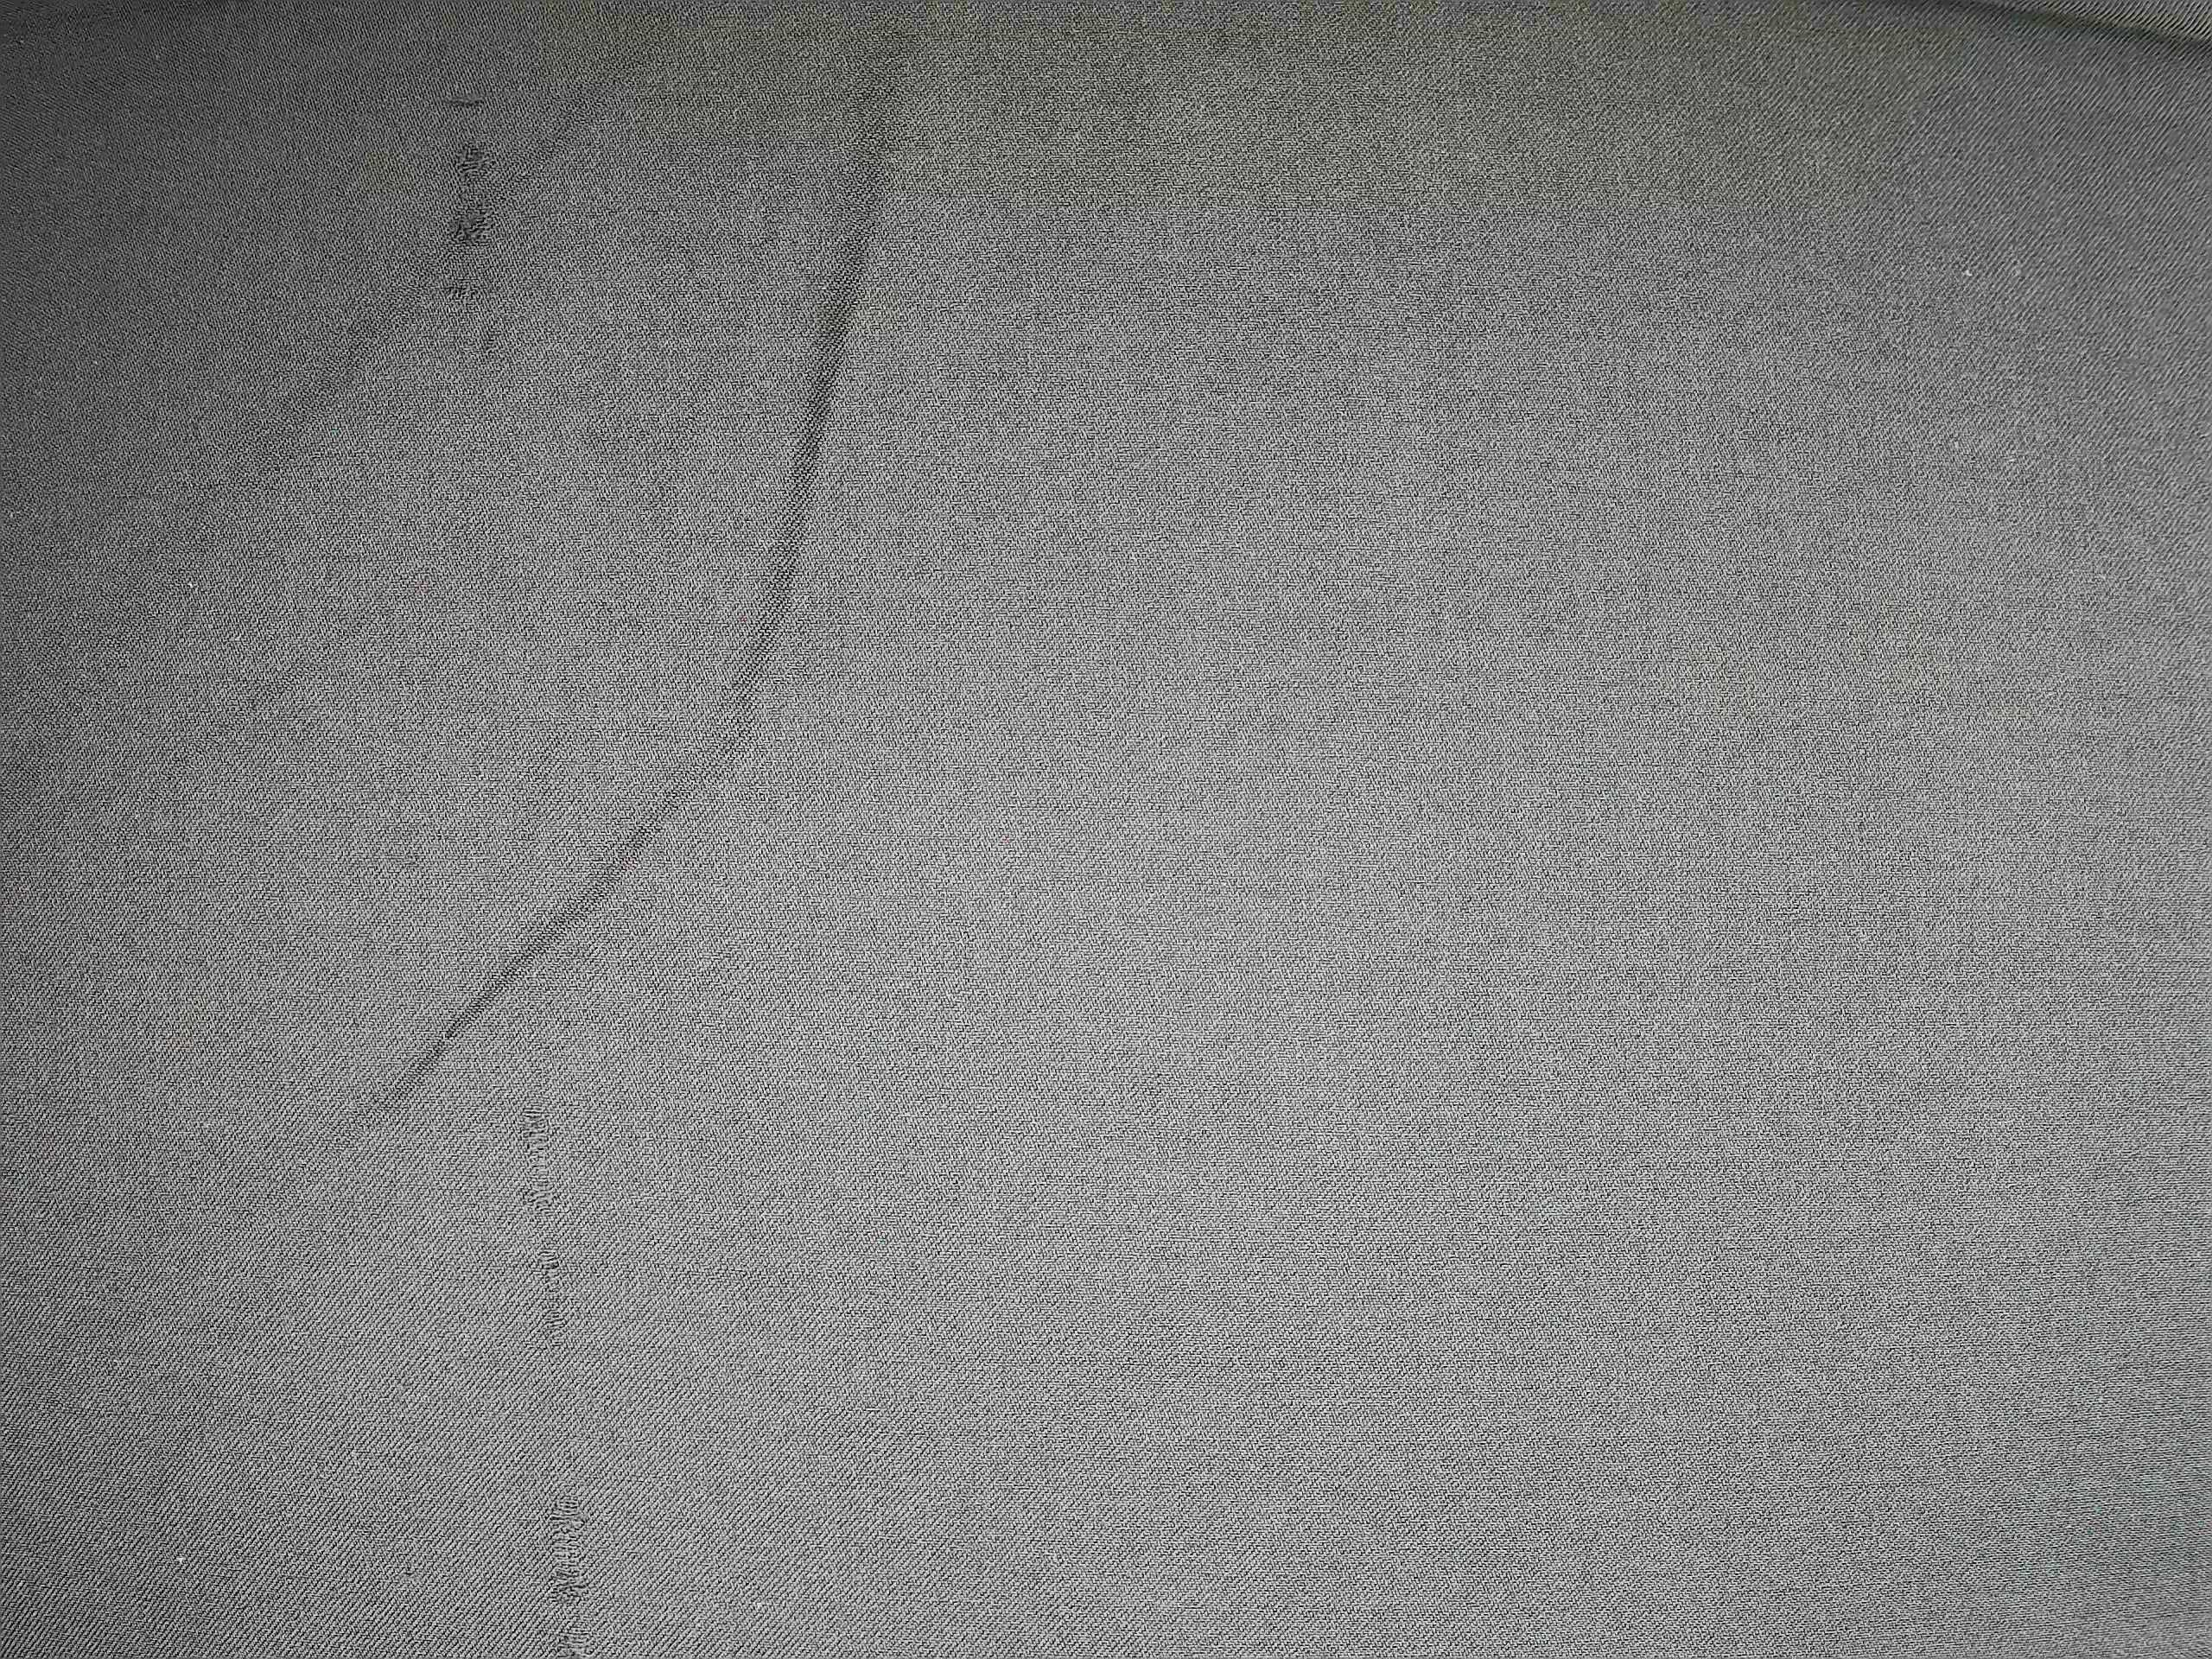puncture-hole: (510, 1093, 604, 1659), (430, 77, 507, 352)
